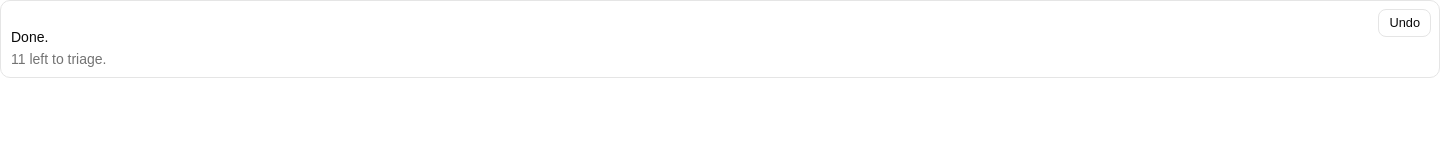
Test case: UndoNotice › keeps the consequence visible next to a failure, since the change is still in place
What coordinates should you click on to do the following:
click the button "Undo"
I would click on:
 (1405, 23)
Its box is [1378, 9, 1431, 37].
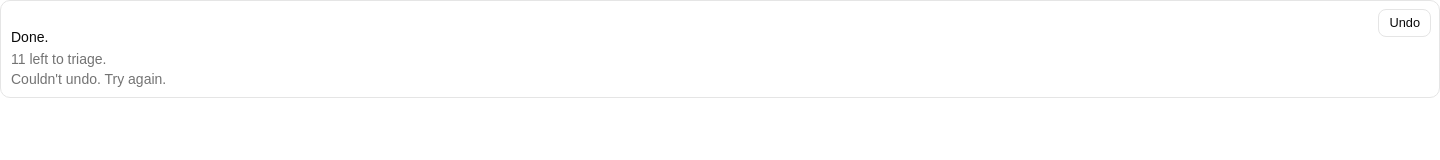
Expected: the text "11 left to triage." is shown, [11, 51, 106, 67]
Expected: the text "Couldn't undo. Try again." is shown, [11, 71, 166, 87]
